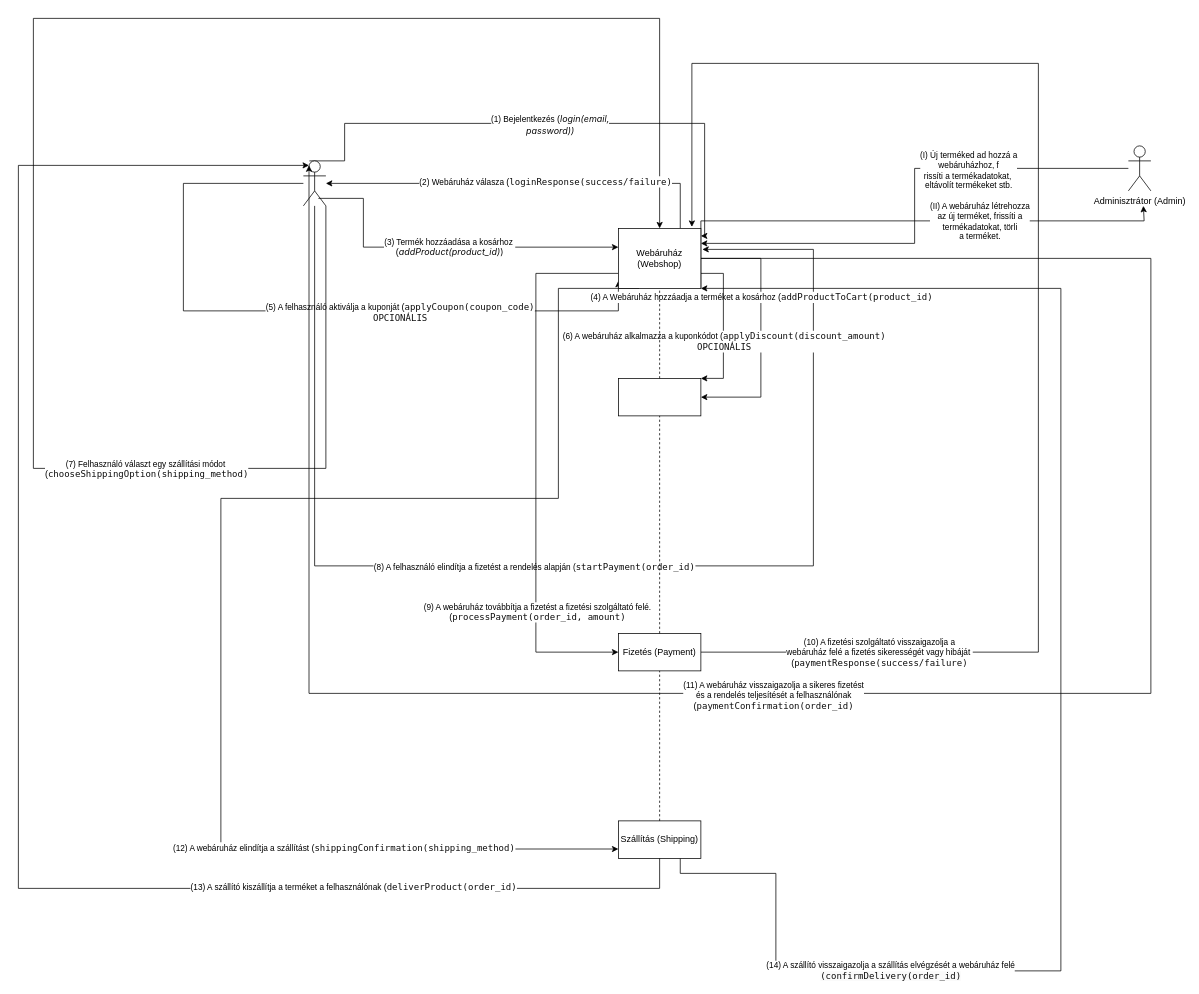
Some shapes in this 1199 by 994 pixel diagram are drawn without their labels. The shapes that lost their labels are listed below. From the top down, each one's centre as x and y in pixels, then its label:
(x=314, y=183): Felhasználó (User)
(x=659, y=397): Kosár (Cart)
